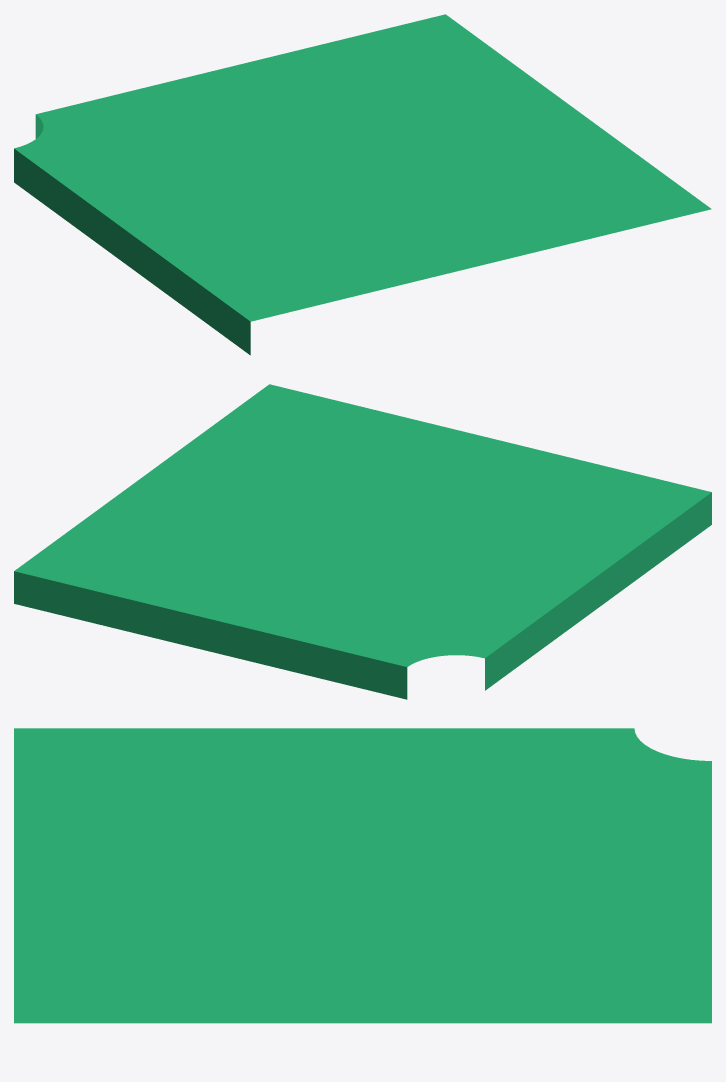
File: squareCornerA base.FBX
3 renders of one model, top to bottom at view 1: azimuth 30°, elevation 25°; view 2: azimuth 150°, elevation 25°; view 3: azimuth 270°, elevation 25°, orthographic. The views are drawn at different scales.
Parts seen in each view (by area): view 1: squareCornerA; view 2: squareCornerA; view 3: squareCornerA.
Part boxes in pixels (box(x1,y1,x2,y2)): squareCornerA: box(14, 14, 711, 355); squareCornerA: box(14, 384, 711, 699); squareCornerA: box(14, 728, 711, 1023).
Bounding box in the file's own units: 89.99 × 6.33 × 89.99.
